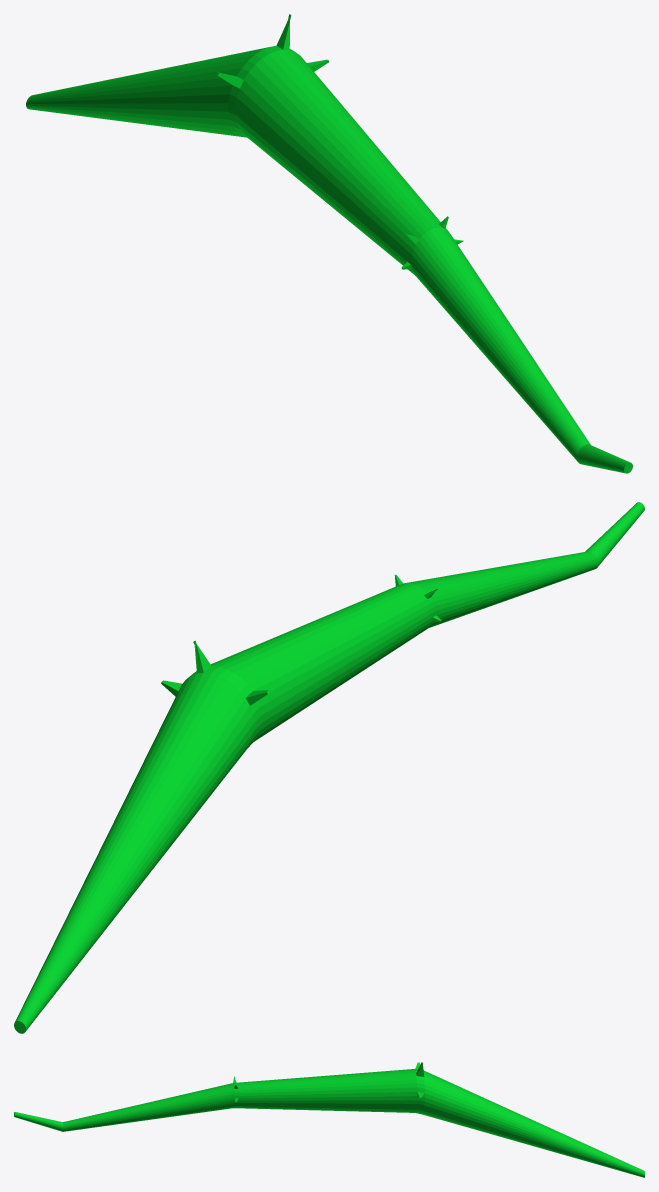
File: Raiz.fbx
3 renders of one model, top to bottom at view 1: azimuth 30°, elevation 25°; view 2: azimuth 150°, elevation 25°; view 3: azimuth 270°, elevation 25°, orthographic. The views are drawn at different scales.
Parts seen in each view (by area): view 1: Cylinder; view 2: Cylinder; view 3: Cylinder.
Part boxes in pixels (bbox=[...]): Cylinder: bbox=[26, 14, 632, 473]; Cylinder: bbox=[14, 502, 644, 1033]; Cylinder: bbox=[14, 1062, 644, 1177].
Bounding box in the file's own units: 44.48 × 93.36 × 429.
